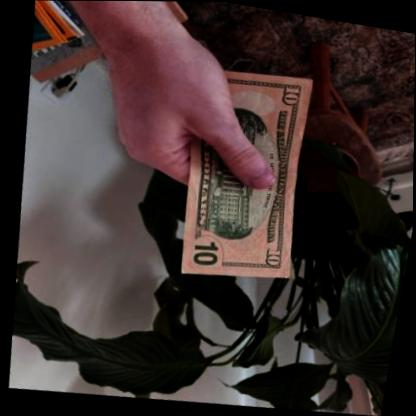dollar_back: (151, 59, 326, 294)
